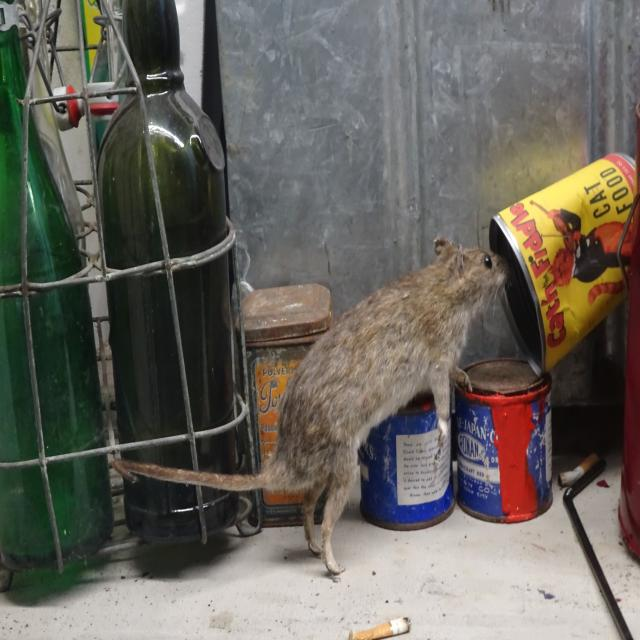glass: (118, 121, 222, 378)
metal: (506, 211, 608, 355), (411, 406, 537, 509)
